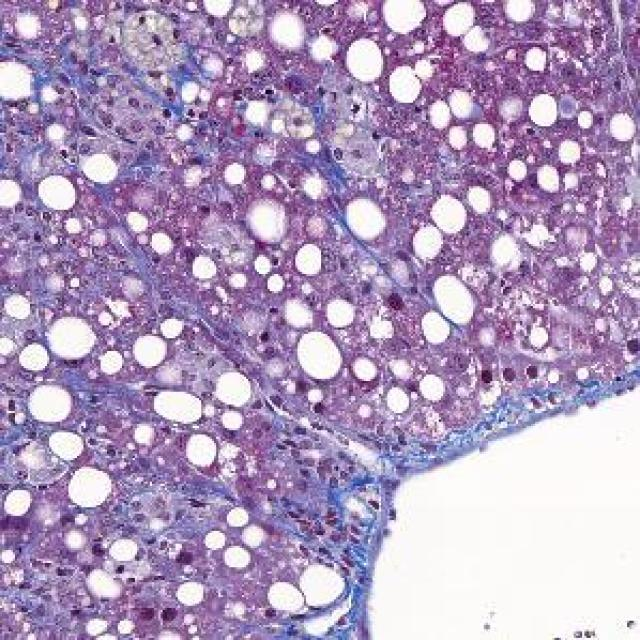fibrosis: (253, 432, 396, 570), (60, 34, 184, 133)
